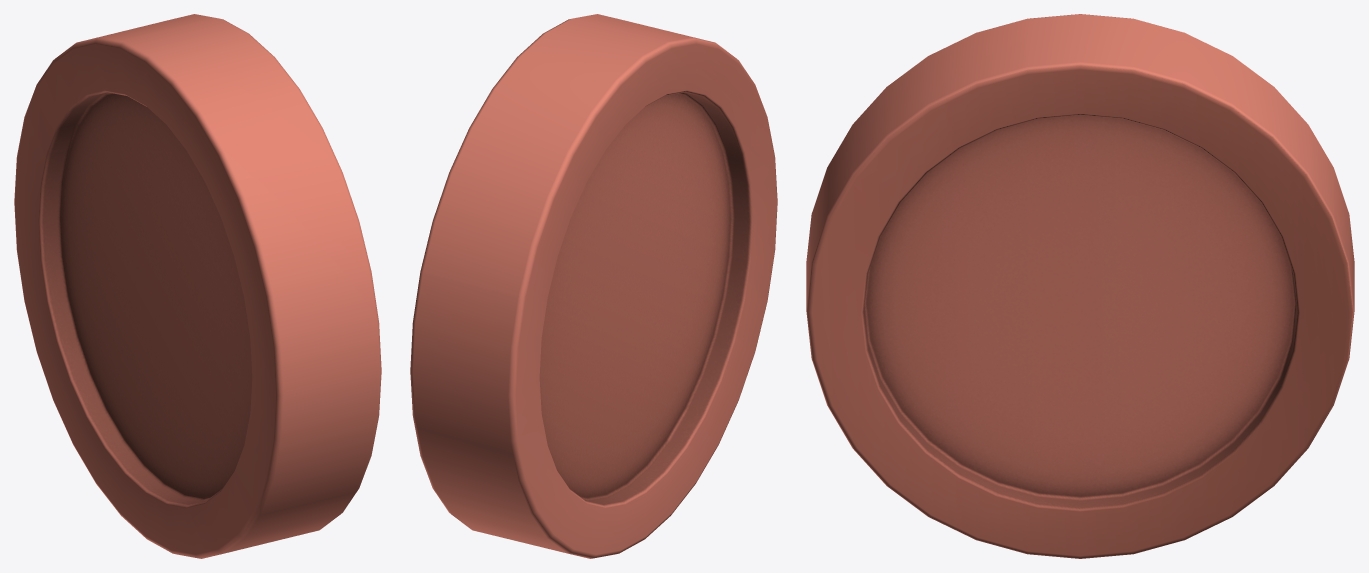
File: coin02.fbx
The picture shows the model from 3 angles, left to right: view 1: azimuth 30°, elevation 25°; view 2: azimuth 150°, elevation 25°; view 3: azimuth 270°, elevation 25°; orthographic projection. The views are drawn at different scales.
Visible parts, largest first — view 1: coin-lp.02; view 2: coin-lp.02; view 3: coin-lp.02.
Boxes of the visible parts, bbox=[...] form: coin-lp.02: bbox=[14, 14, 381, 558]; coin-lp.02: bbox=[410, 14, 777, 558]; coin-lp.02: bbox=[806, 14, 1354, 558].
Size of the model in its own units: 0.0607 by 0.2673 by 0.2673.
Materials: 1 (1 with a texture image).
